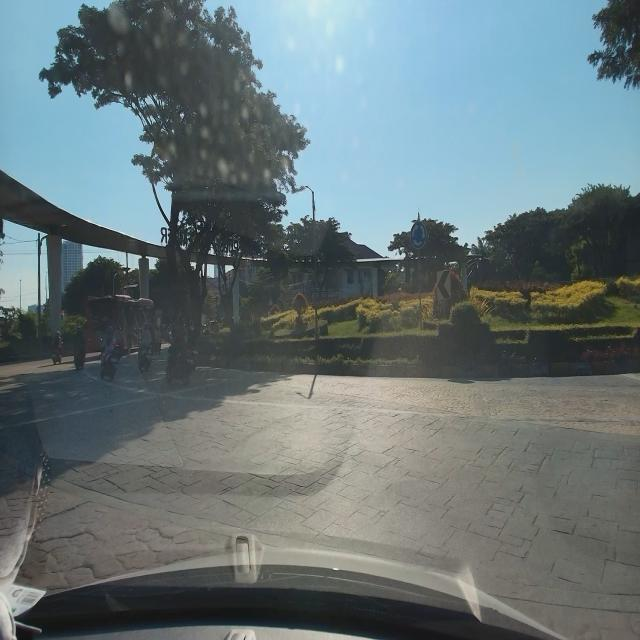bus: (83, 290, 158, 356)
